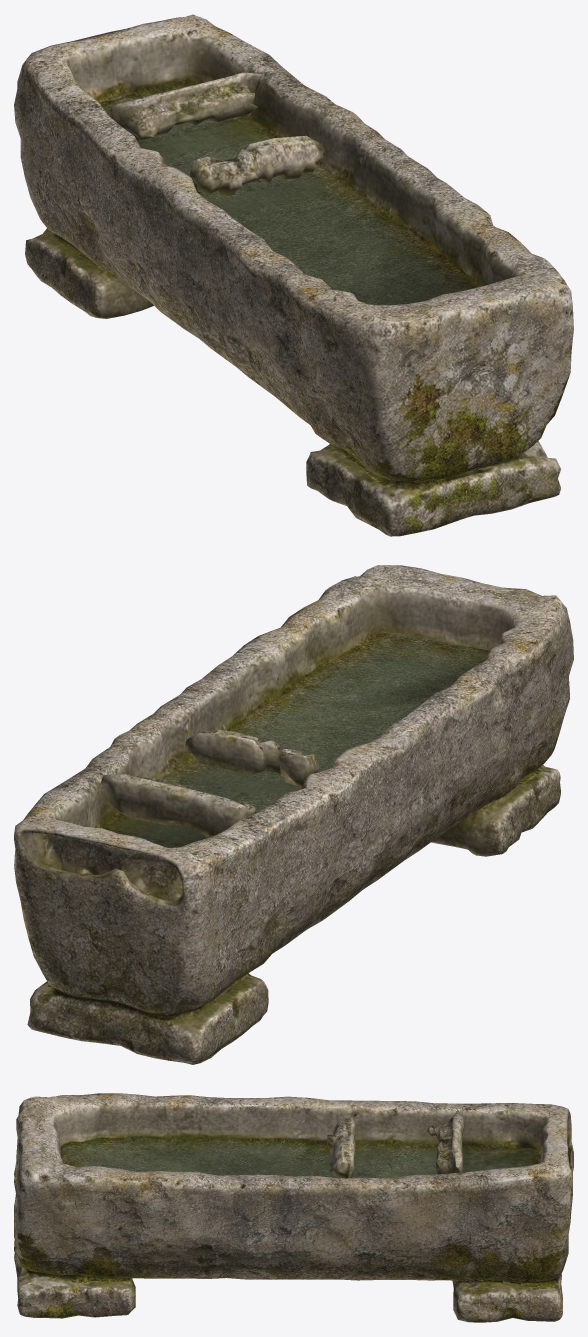
The model's file is kit_sr_stone_trough.glb.
The picture shows the model from 3 angles, top to bottom: view 1: azimuth 30°, elevation 25°; view 2: azimuth 150°, elevation 25°; view 3: azimuth 270°, elevation 25°; orthographic projection. The views are drawn at different scales.
Parts seen in each view (by area): view 1: kit_sr_stone_trough; view 2: kit_sr_stone_trough; view 3: kit_sr_stone_trough.
Part boxes in pixels (left/top/right/bottom): kit_sr_stone_trough: left=14, top=14, right=573, bottom=536; kit_sr_stone_trough: left=14, top=565, right=573, bottom=1064; kit_sr_stone_trough: left=14, top=1093, right=573, bottom=1322.
Size of the model in its own units: 0.8877 by 0.7656 by 2.4.
1 material, 1 textured.
